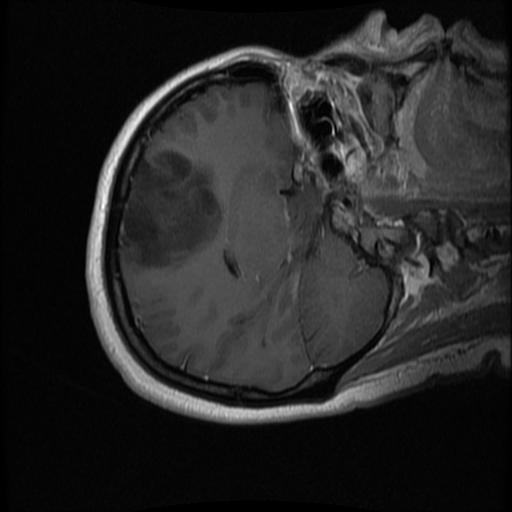glioma: (121, 152, 222, 267)
